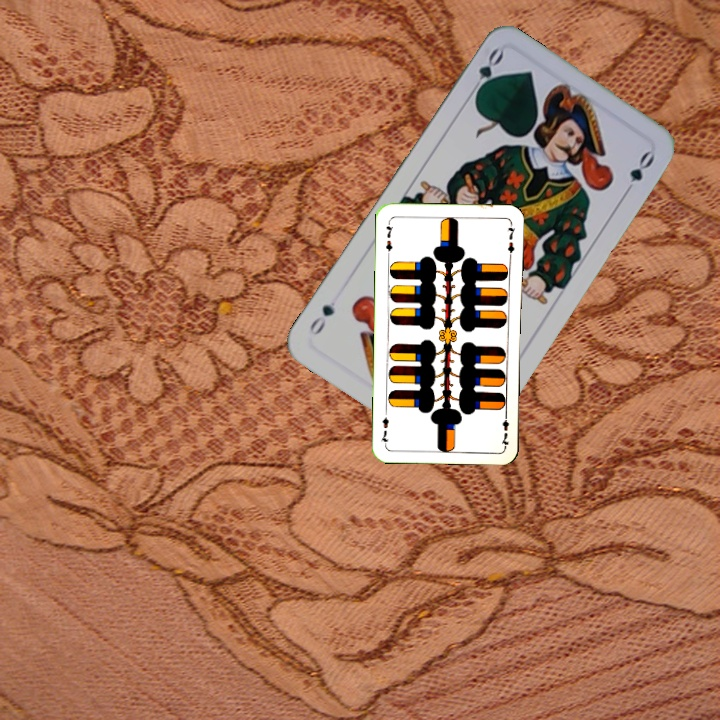E7: (497, 408, 511, 448), (382, 218, 395, 258)
GO: (465, 44, 506, 101)
